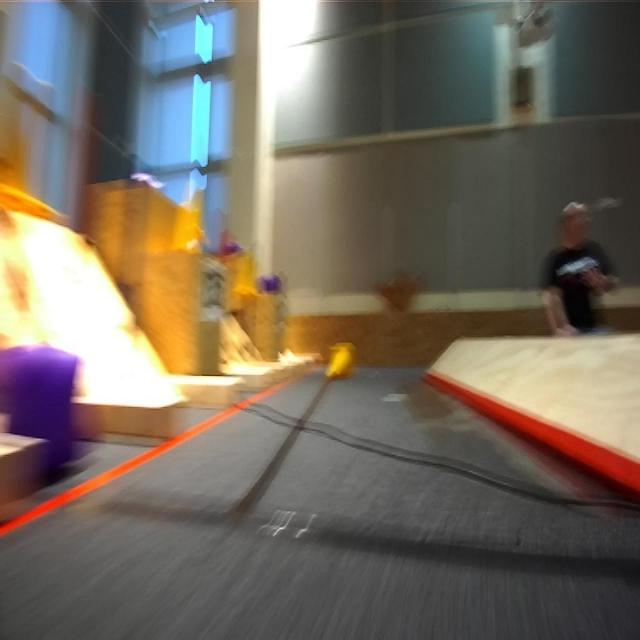frc_cone: (0, 63, 74, 227), (168, 186, 210, 255), (327, 341, 356, 378), (237, 249, 255, 299)
frc_cube: (0, 341, 76, 443), (262, 269, 282, 295), (218, 243, 244, 257)
